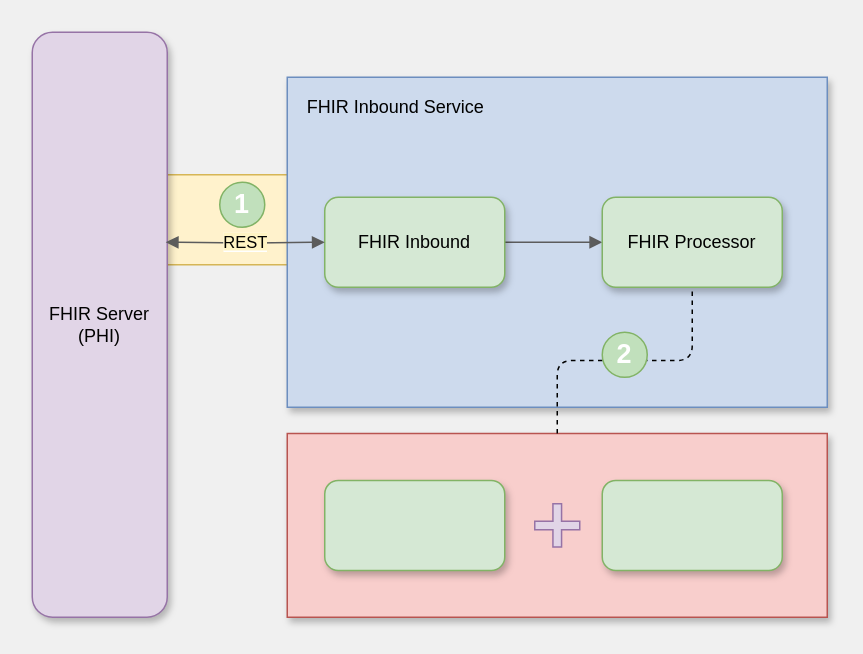
Image size: 863x654. Some labels were removed from this diagram. Here are the shapes that lost their labels. From the top down, the centre of each, then its label:
At pixel 415 527: "JSON Parser".
At pixel 693 527: "Profile".
